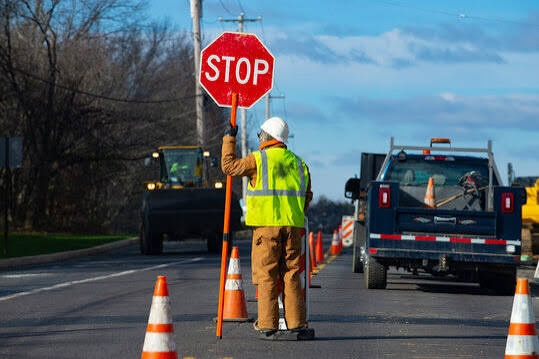hardhat: (254, 118, 295, 145)
machinery: (132, 133, 245, 252)
person: (239, 114, 328, 342), (165, 147, 192, 171)
safety_cone: (134, 269, 190, 358), (499, 274, 537, 356), (219, 246, 253, 331), (419, 178, 443, 221), (312, 227, 328, 275), (332, 217, 345, 257)
safety_vest: (245, 149, 312, 228)
